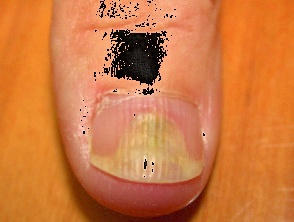Nail_psoriasis: (59, 64, 224, 195)
